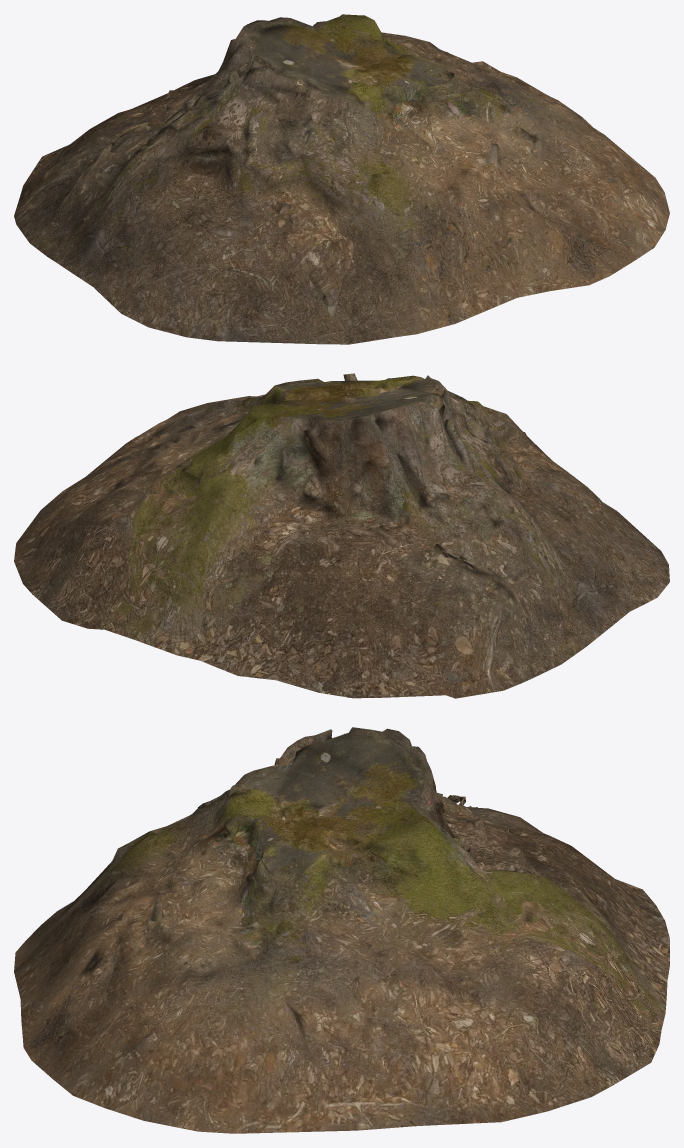
Rendered from tree_stump_02.glb.
The picture shows the model from 3 angles, top to bottom: view 1: azimuth 30°, elevation 25°; view 2: azimuth 150°, elevation 25°; view 3: azimuth 270°, elevation 25°; orthographic projection. The views are drawn at different scales.
Visible parts, largest first — view 1: tree_stump_02; view 2: tree_stump_02; view 3: tree_stump_02.
Part boxes in pixels (x1=…): tree_stump_02: x1=14, y1=14, x2=669, y2=344; tree_stump_02: x1=14, y1=373, x2=669, y2=698; tree_stump_02: x1=14, y1=727, x2=669, y2=1133.
Bounding box in the file's own units: 1.52 × 0.5196 × 1.39.
1 material, 1 textured.
